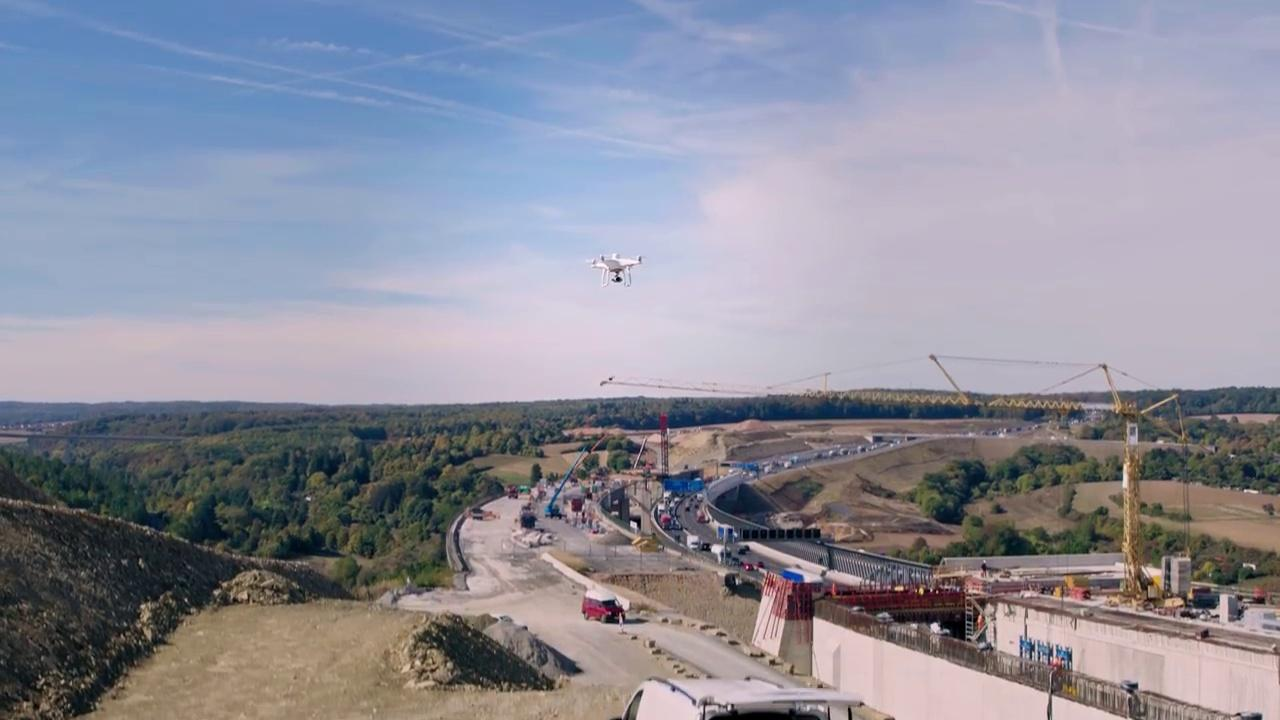drone: (582, 247, 650, 289)
